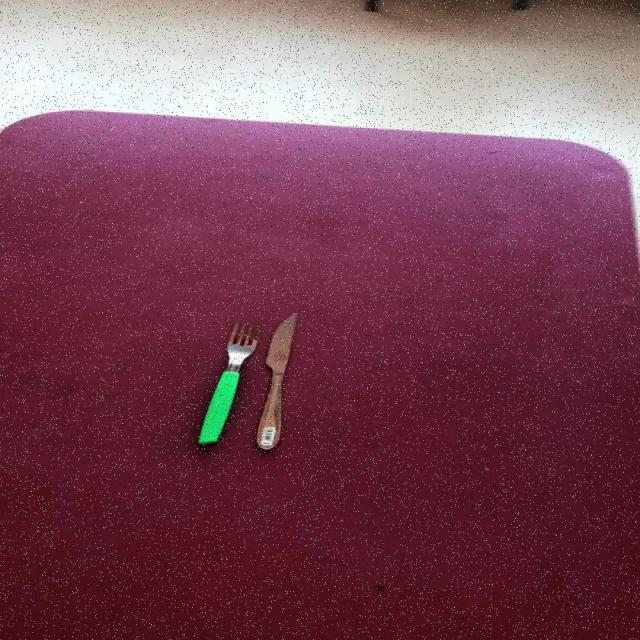Fork: (196, 318, 260, 446)
Knife: (254, 311, 297, 450)
